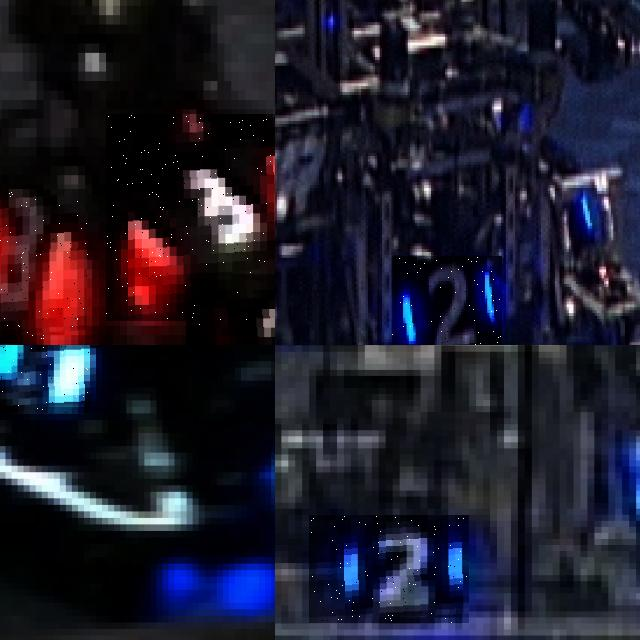B2: (309, 515, 469, 623), (392, 256, 502, 345)
Bs: (0, 345, 89, 413)
R3: (106, 114, 275, 321), (0, 189, 88, 339), (186, 274, 275, 345)
